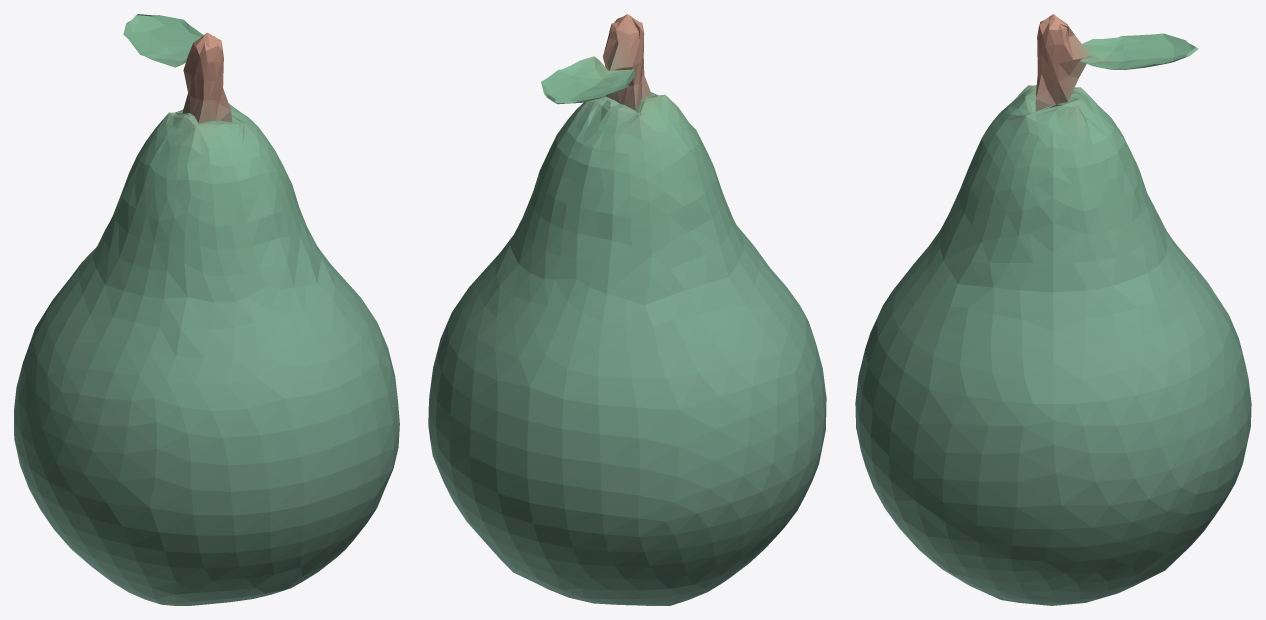
Rendered from pear.glb.
The picture shows the model from 3 angles, left to right: view 1: azimuth 30°, elevation 25°; view 2: azimuth 150°, elevation 25°; view 3: azimuth 270°, elevation 25°; orthographic projection. The views are drawn at different scales.
Bounding box in the file's own units: 0.6401 × 0.9969 × 0.6388.
